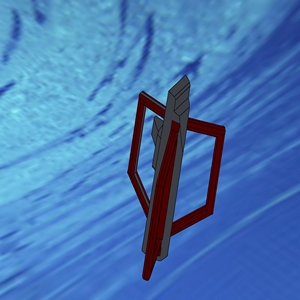submarine: (91, 42, 225, 284)
